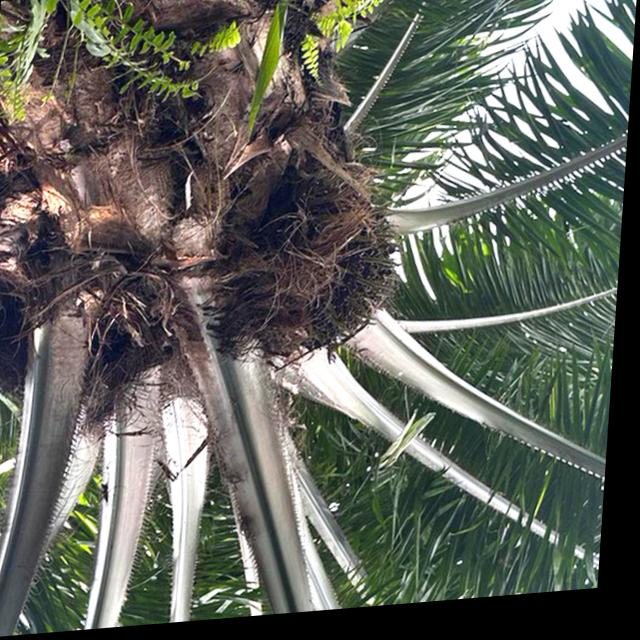unripe: (179, 141, 407, 375), (0, 240, 166, 445)
